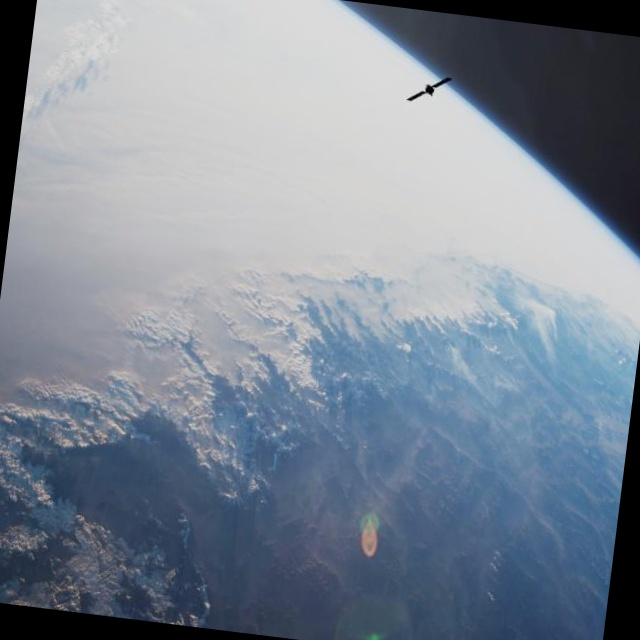satellite: (402, 66, 456, 114)
